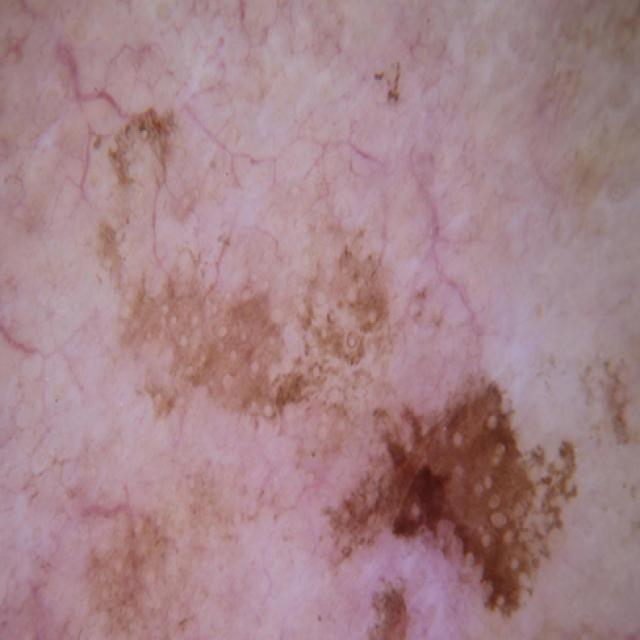Keratosis: (327, 326, 597, 617), (94, 124, 301, 426)
